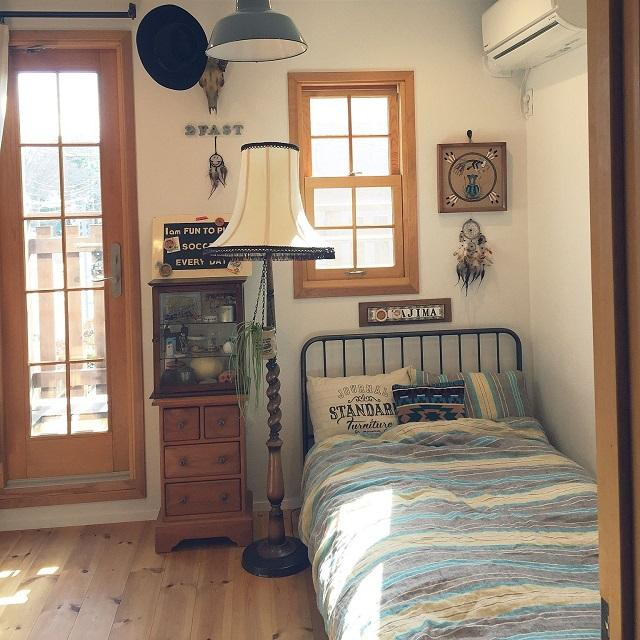vintage bed: (288, 313, 627, 640)
vintage shelf: (140, 266, 260, 558)
